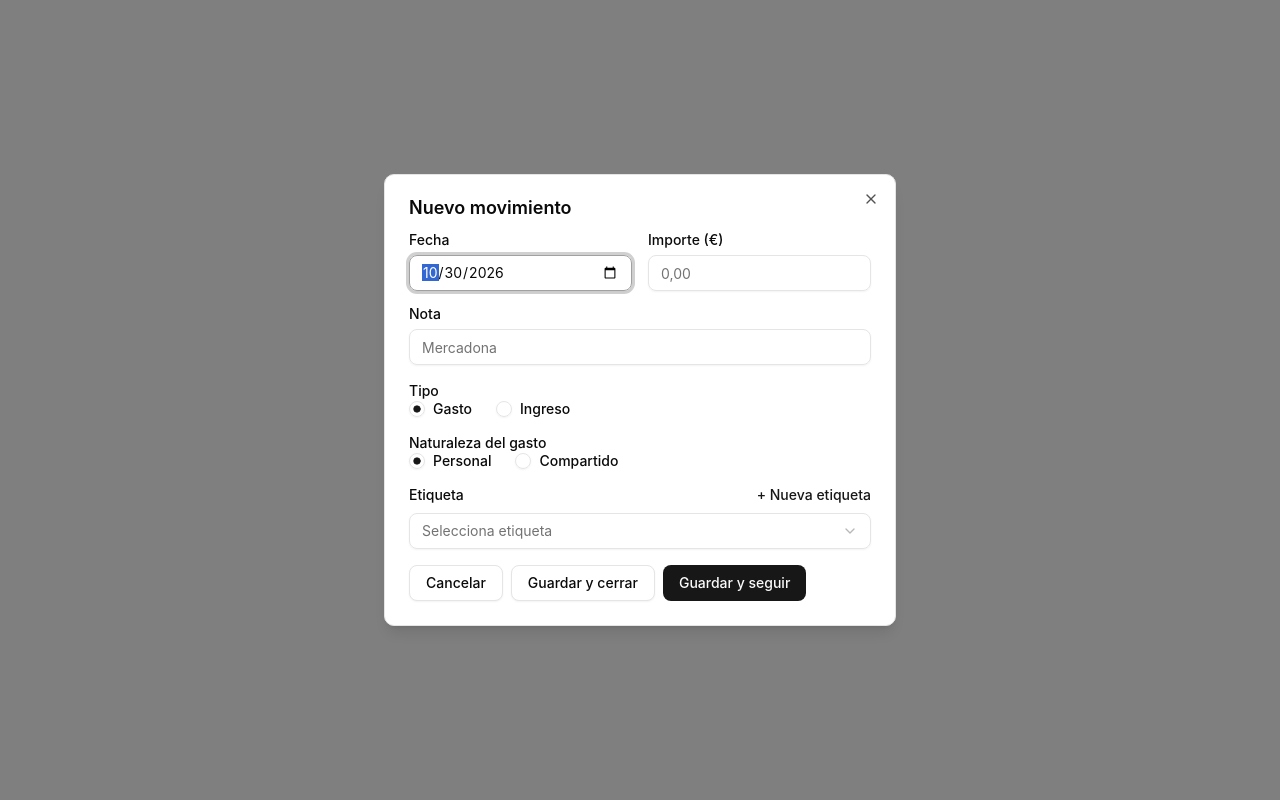
Test: CreateMovementDialog (flujo de alta) › muestra el error de tag en gasto con el mensaje del contrato
The image size is (1280, 800).
Click the button "Guardar y seguir".
click(735, 583)  # box [663, 565, 806, 601]
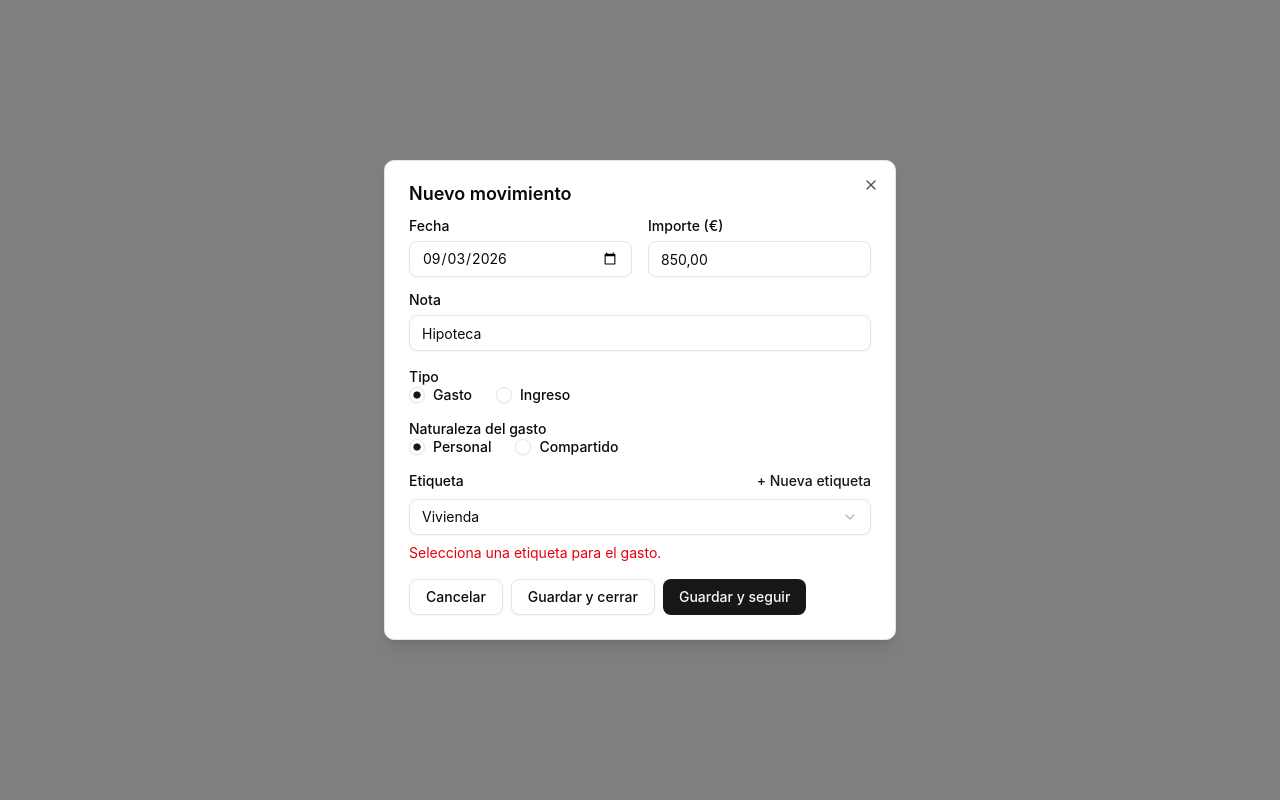
Expected: the text "Selecciona una etiqueta para el gasto." is shown, [409, 544, 661, 561]
